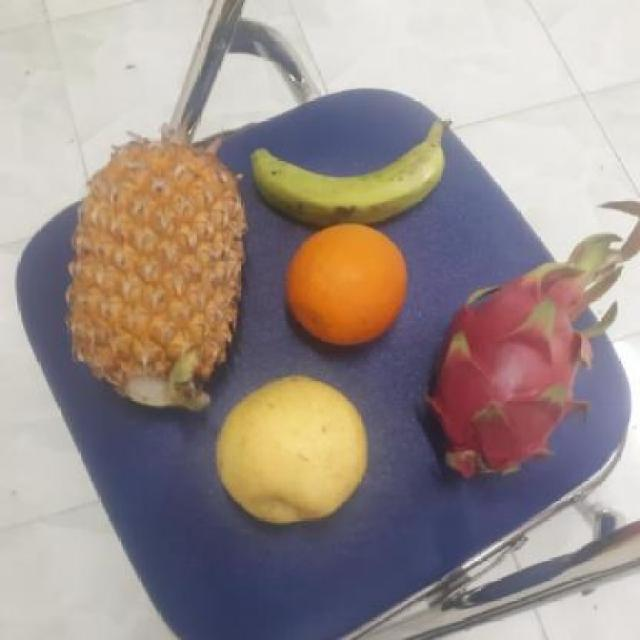banana: (245, 131, 449, 234)
dragon fruit: (414, 268, 594, 482)
oren: (280, 221, 412, 344)
pear: (209, 371, 369, 524)
pineapple: (63, 145, 248, 409)
